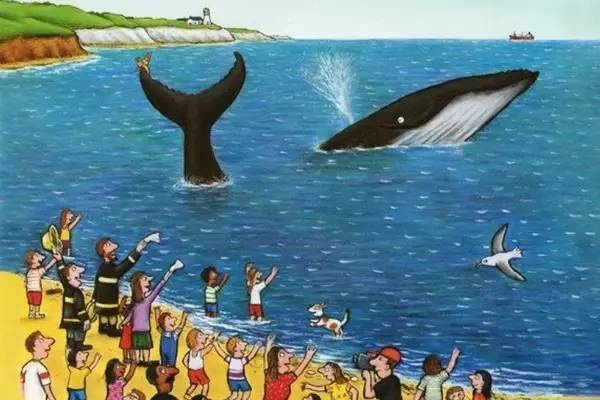bird: (472, 223, 529, 281)
fish: (124, 45, 542, 195)
